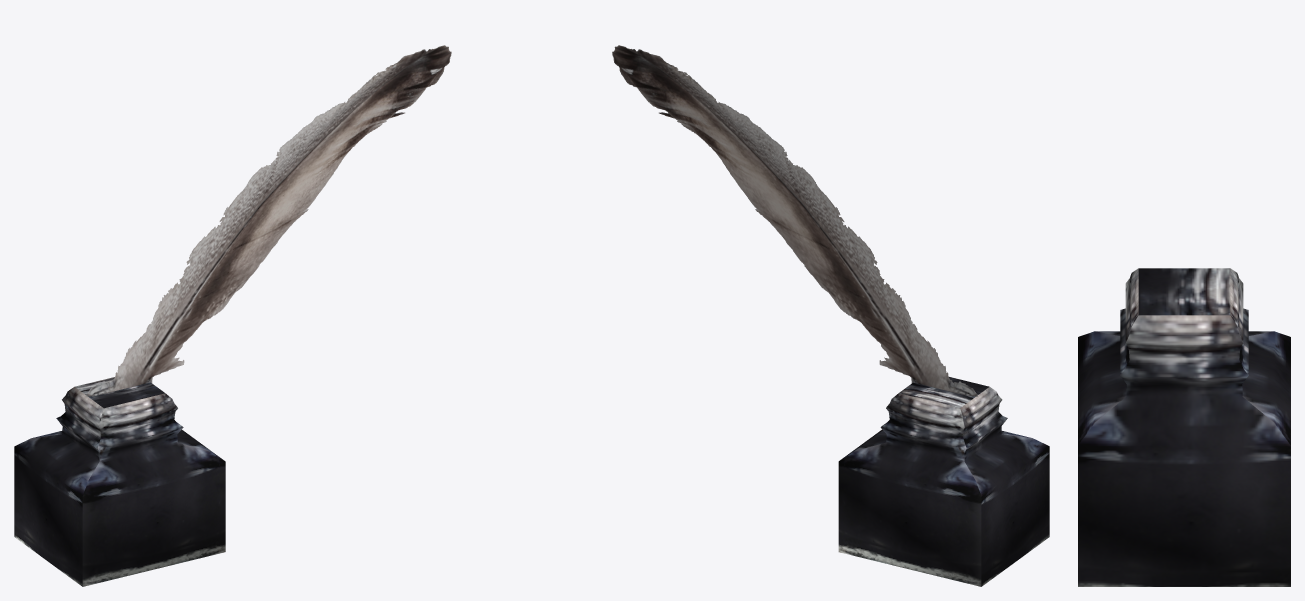
The model's file is quill.obj.
3 renders of one model, left to right at view 1: azimuth 30°, elevation 25°; view 2: azimuth 150°, elevation 25°; view 3: azimuth 270°, elevation 25°, orthographic. The views are drawn at different scales.
Visible parts, largest first — view 1: Group2_ink, Group2_TwoSided, Group2_quill; view 2: Group2_ink, Group2_quill, Group2_TwoSided; view 3: Group2_ink.
Boxes of the visible parts, box(x1,y1,x2,y2) form: Group2_ink: box(14, 377, 225, 586); Group2_TwoSided: box(87, 45, 451, 395); Group2_quill: box(86, 45, 451, 396); Group2_ink: box(838, 377, 1049, 586); Group2_quill: box(612, 45, 977, 396); Group2_TwoSided: box(612, 45, 977, 395); Group2_ink: box(1078, 268, 1290, 586).
Bounding box in the file's own units: 0.3556 × 0.314 × 0.0896.
Materials: 1 (1 with a texture image).
